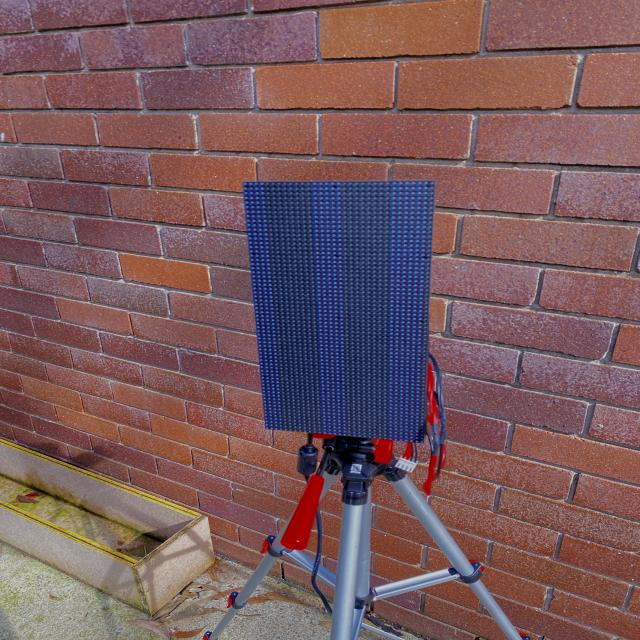matrix: (234, 175, 443, 457)
